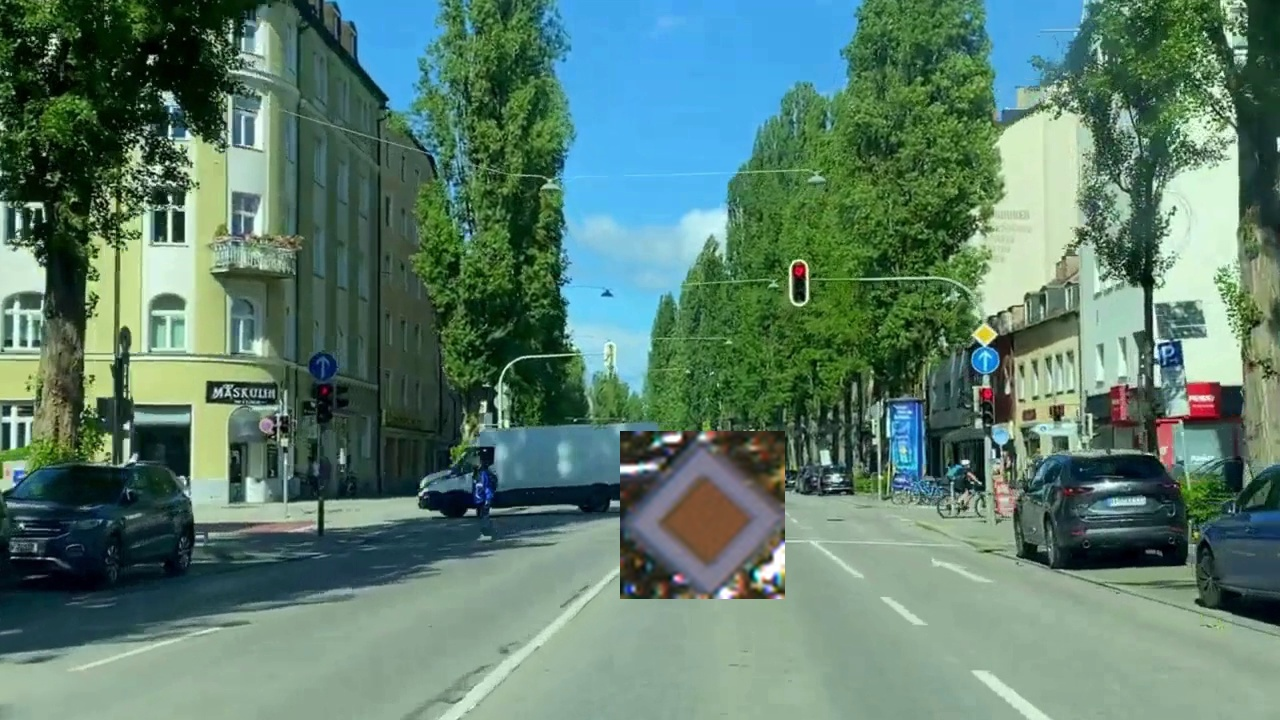Priority road: (620, 431, 785, 599)
